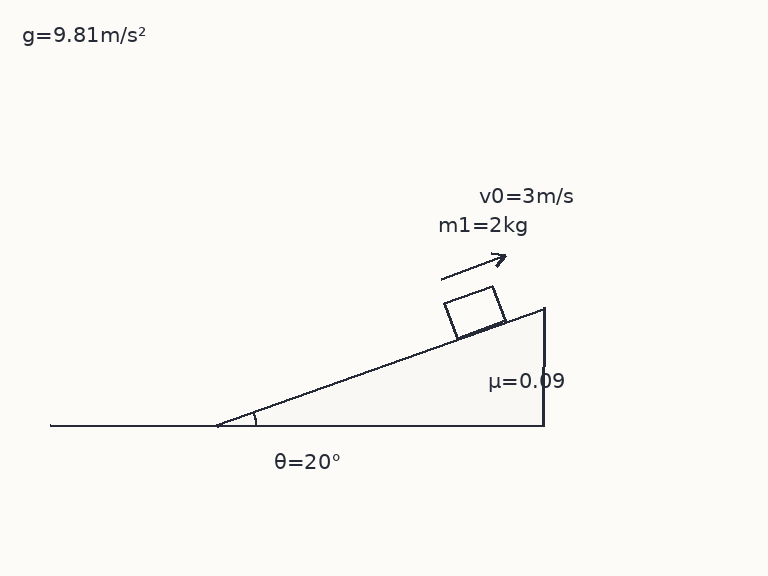block: (442, 284, 507, 340)
ramp: (214, 305, 545, 428)
